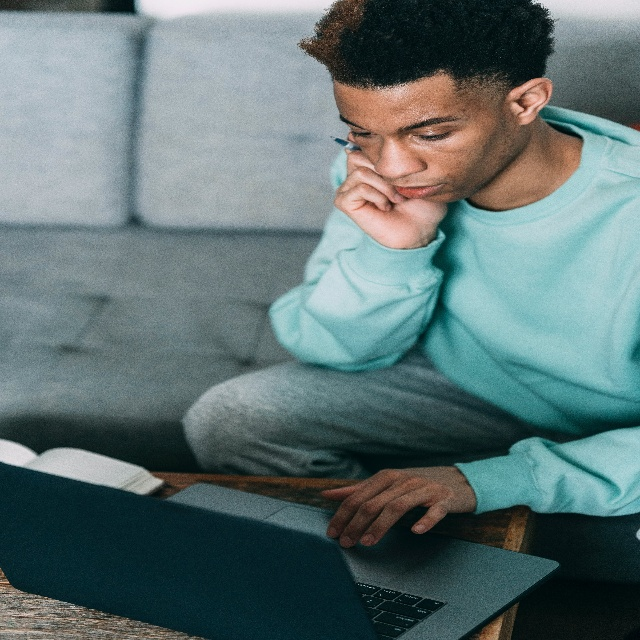Sin_guantes: (314, 462, 475, 551), (333, 132, 448, 254)
